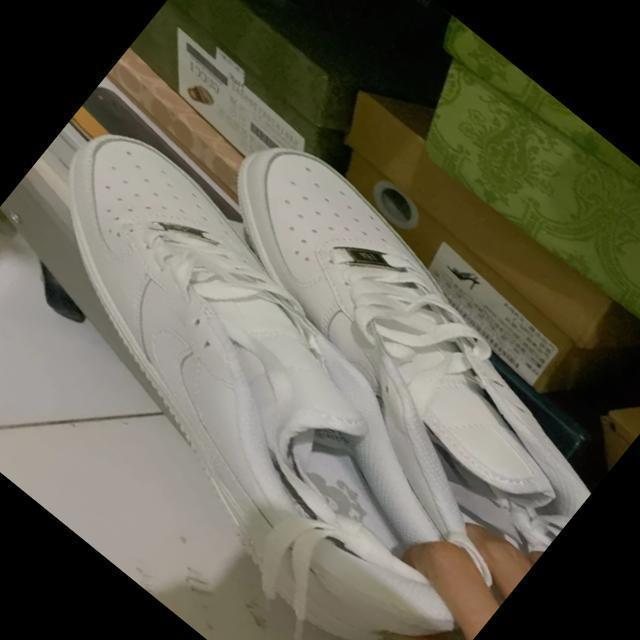nike fake air force: (0, 108, 578, 640), (129, 114, 640, 592)
